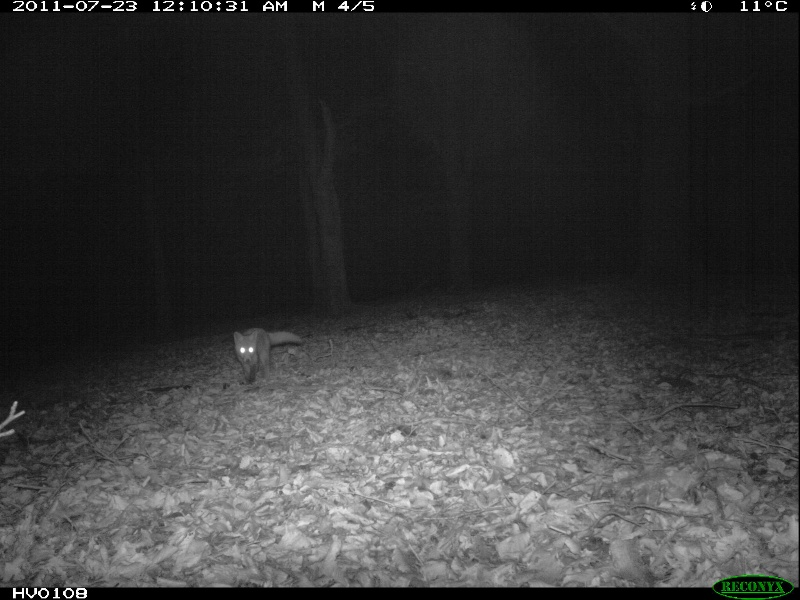fox: (231, 326, 302, 386)
